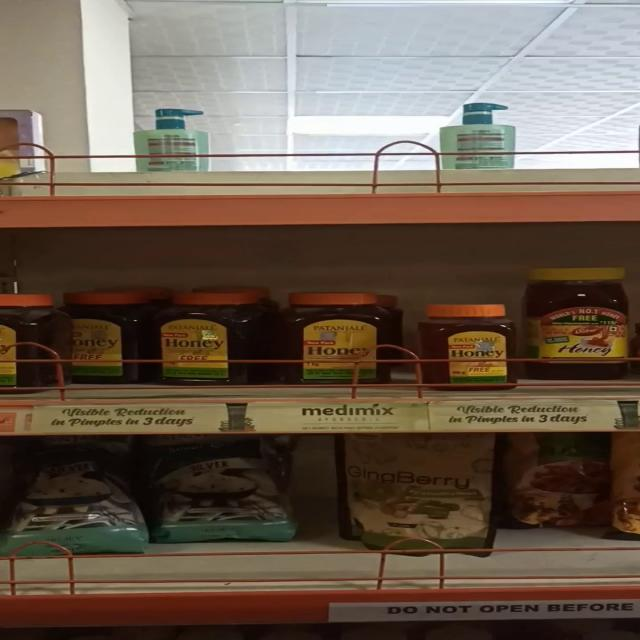Dabur Honey: (522, 271, 638, 384)
Patanjali Honey: (279, 289, 389, 382), (416, 303, 518, 395), (160, 292, 254, 383), (61, 291, 152, 383)
